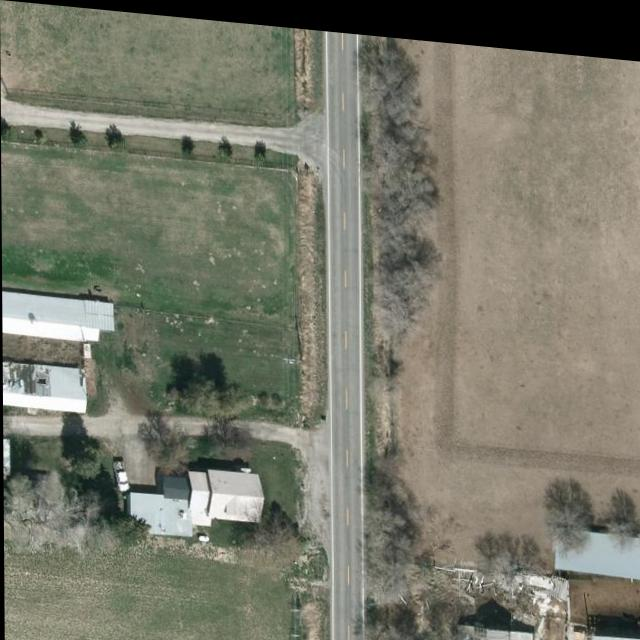vehicle: (113, 458, 130, 490)
